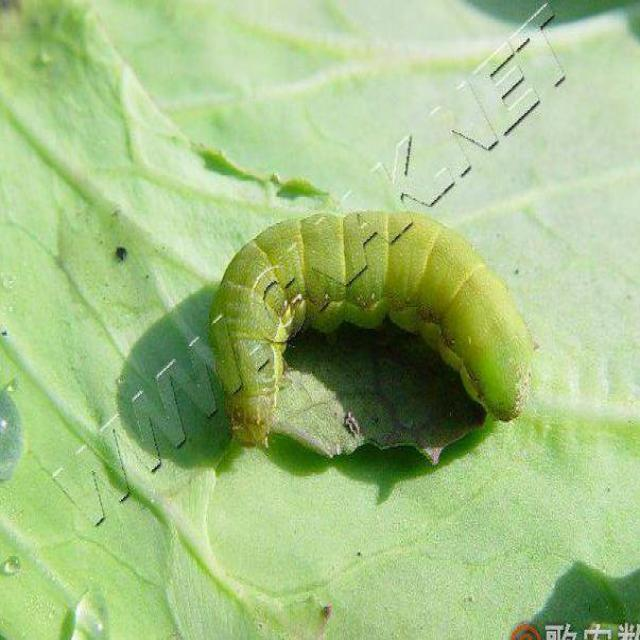BeetArmyWorm-Larva-: (200, 201, 536, 466)
